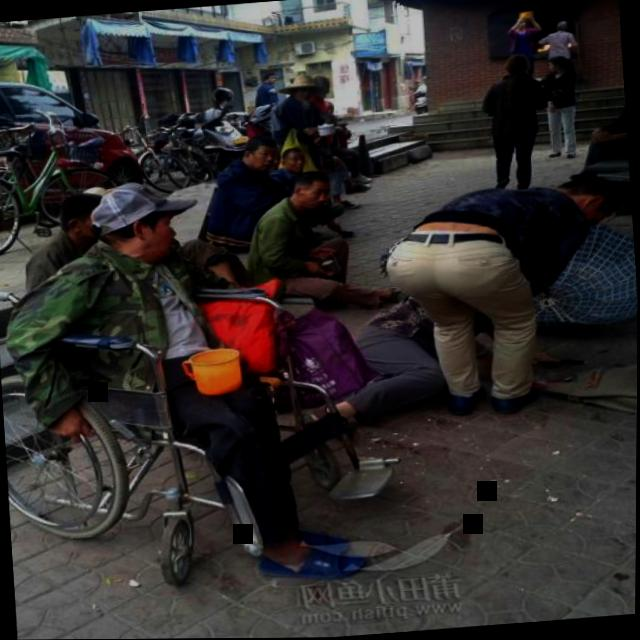Fall-Detected: (284, 275, 483, 450)
